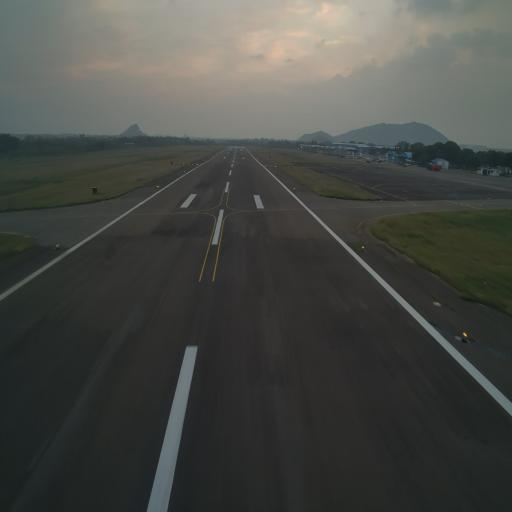on: (462, 328, 468, 342), (54, 242, 60, 252), (361, 244, 365, 254)
